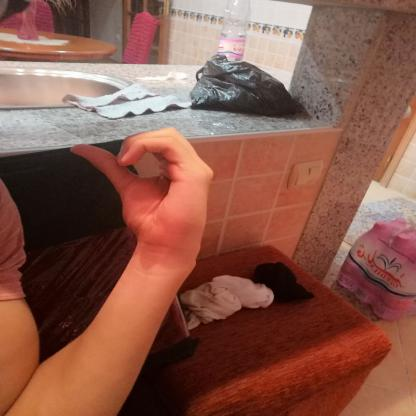WAW: (55, 120, 226, 271)
